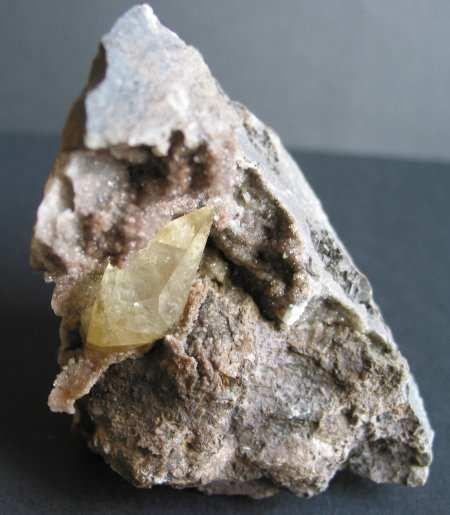calcite: (86, 208, 214, 349)
